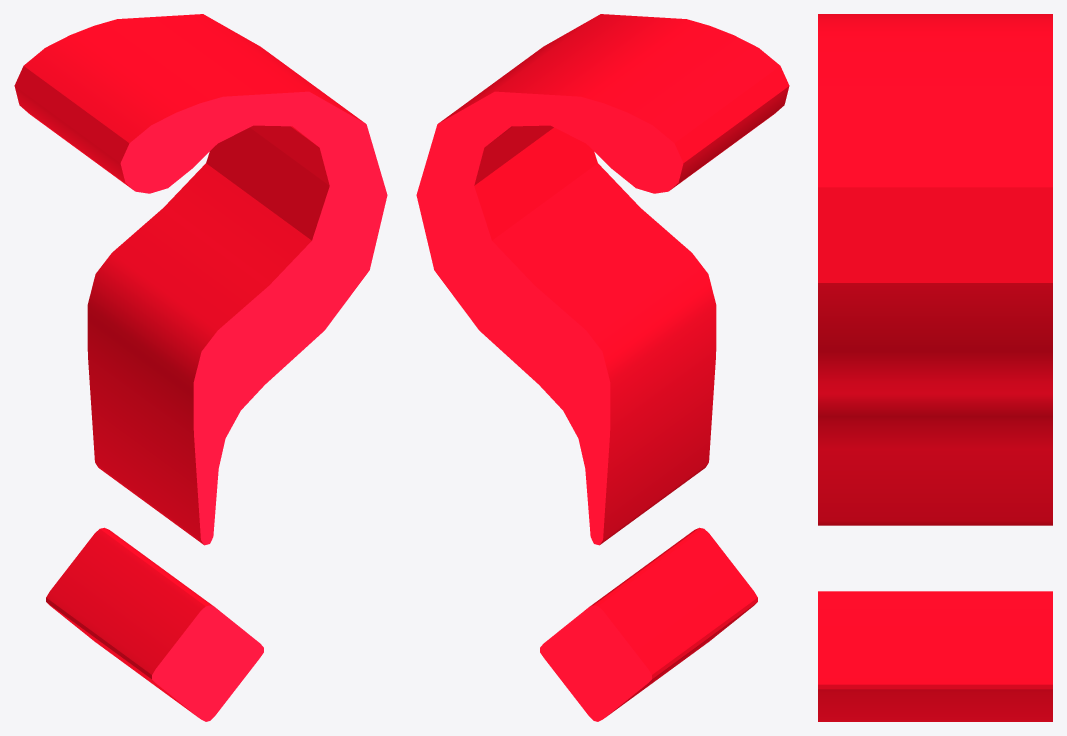
The picture shows the model from 3 angles, left to right: view 1: azimuth 30°, elevation 25°; view 2: azimuth 150°, elevation 25°; view 3: azimuth 270°, elevation 25°; orthographic projection. The views are drawn at different scales.
Parts seen in each view (by area): view 1: ?_Soul_Red; view 2: ?_Soul_Red; view 3: ?_Soul_Red.
Part boxes in pixels (bbox=[...]): ?_Soul_Red: bbox=[14, 14, 387, 721]; ?_Soul_Red: bbox=[416, 14, 789, 721]; ?_Soul_Red: bbox=[818, 14, 1052, 721].
Size of what is drawn, in the model's own units: 0.0655 by 0.1455 by 0.045.
2 materials, 2 textured.
